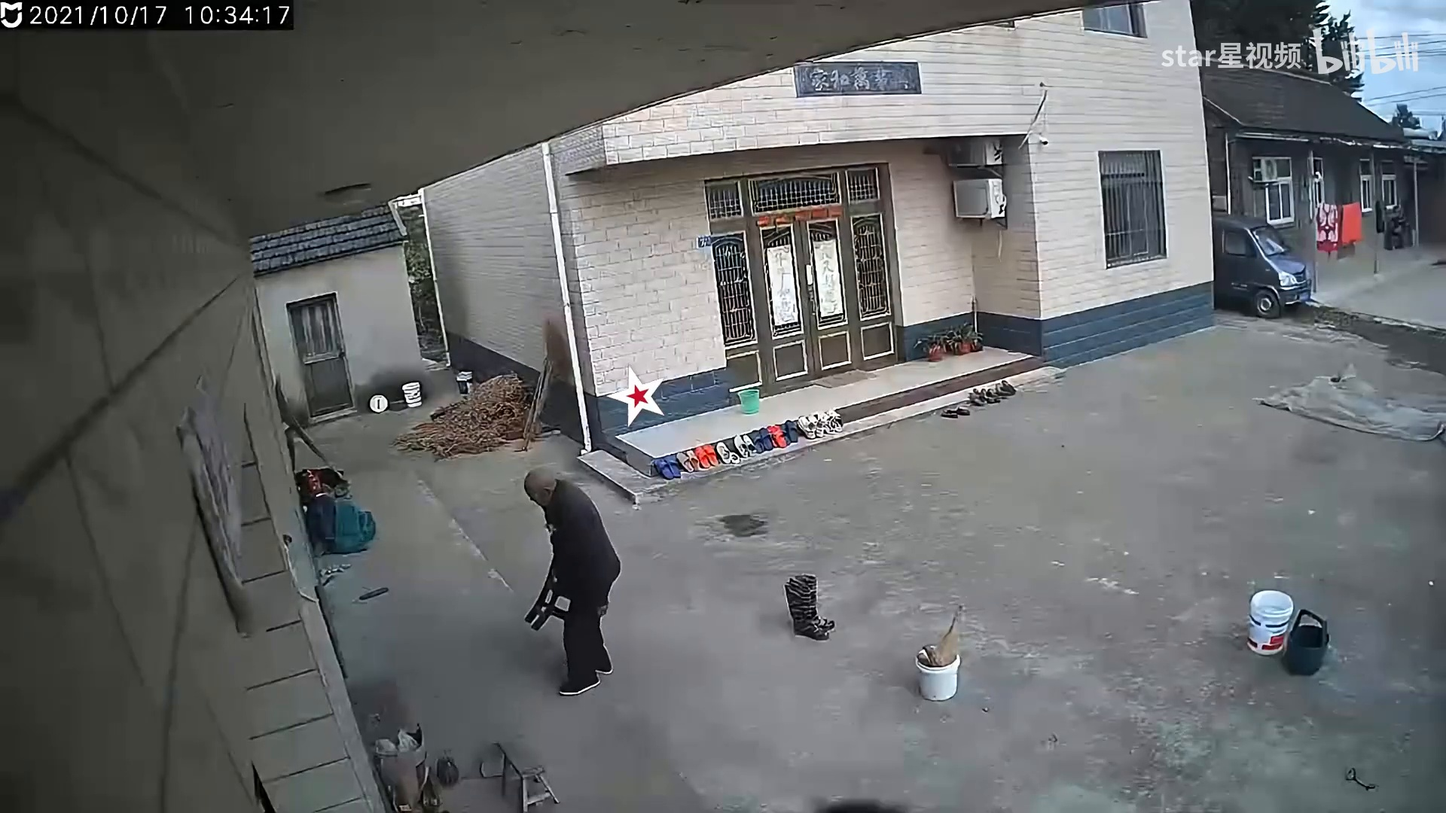stand: (522, 465, 621, 696)
